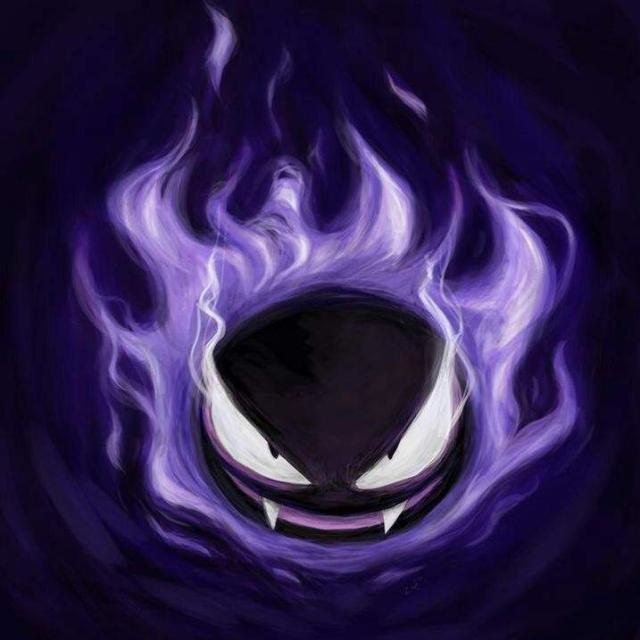Gastly: (138, 186, 532, 574)
